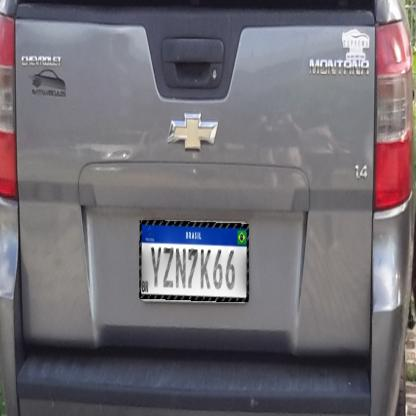PlacaM: (139, 220, 249, 302)
